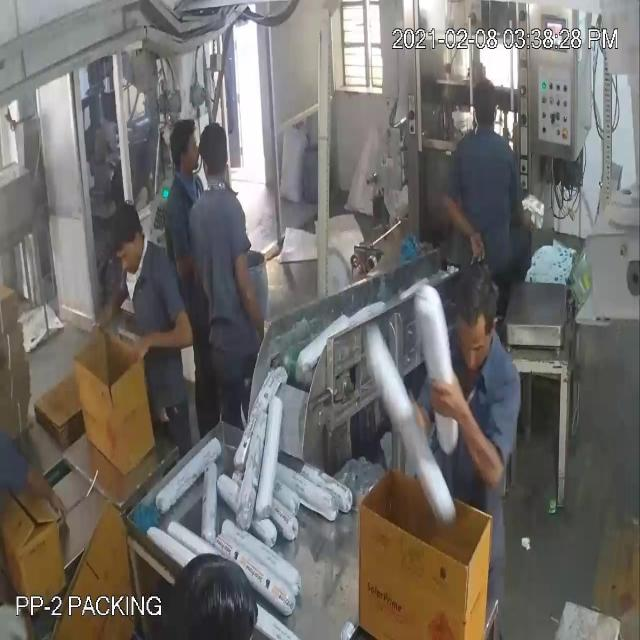No_Gloves: (42, 49, 470, 482)
